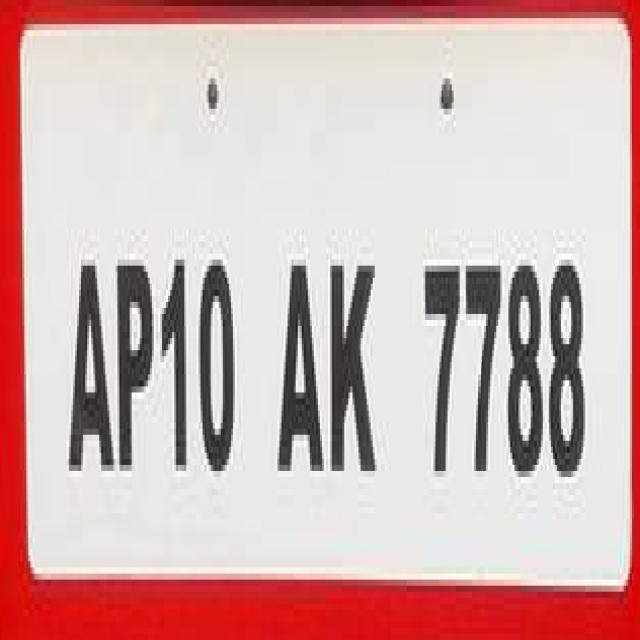license_plate: (22, 60, 640, 586)
